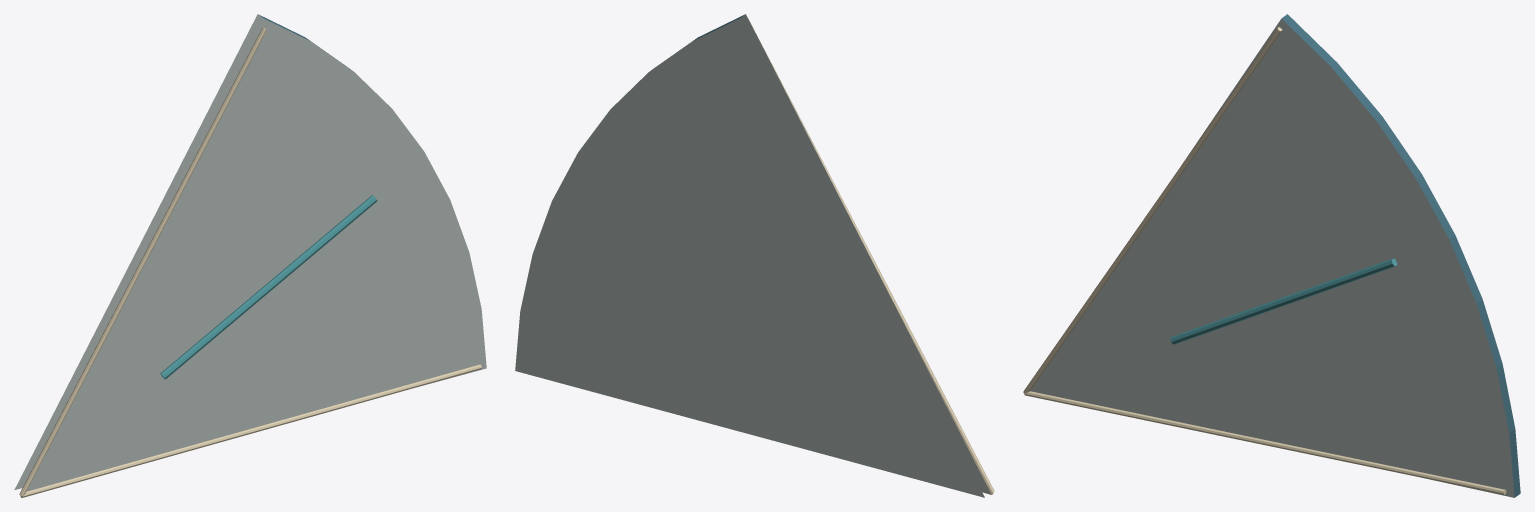
Rendered from marine-shutter.glb.
3 views of the same model, side by side, from view 1: azimuth 30°, elevation 25°; view 2: azimuth 150°, elevation 25°; view 3: azimuth 330°, elevation 25° (orthographic). The views are drawn at different scales.
Visible parts, largest first — view 1: marine-shutter; view 2: marine-shutter; view 3: marine-shutter.
Boxes of the visible parts, box(x1,y1,x2,y2) form: marine-shutter: box(14, 14, 486, 497); marine-shutter: box(515, 14, 994, 497); marine-shutter: box(1023, 14, 1520, 497).
Size of the model in its own units: 9.29 by 7.94 by 0.32.
